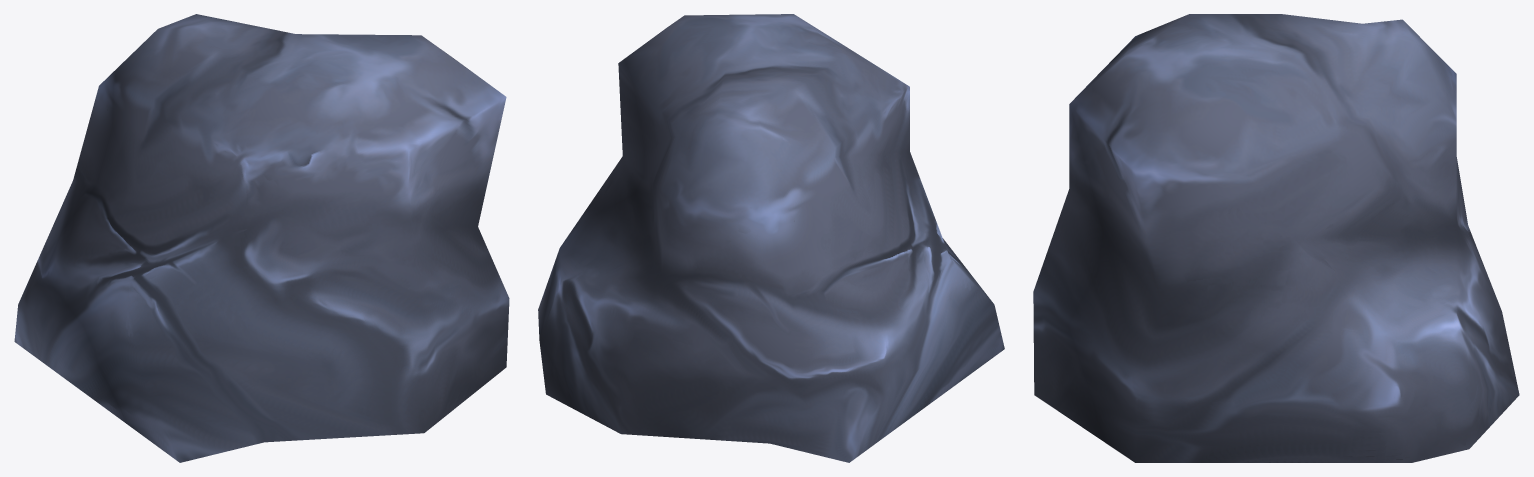
The model's file is Rock.fbx.
3 views of the same model, side by side, from view 1: azimuth 30°, elevation 25°; view 2: azimuth 150°, elevation 25°; view 3: azimuth 270°, elevation 25° (orthographic). The views are drawn at different scales.
Visible parts, largest first — view 1: Rock; view 2: Rock; view 3: Rock.
Part boxes in pixels (x1,y1,x2,y2): Rock: [14, 14, 509, 462]; Rock: [538, 14, 1004, 462]; Rock: [1033, 14, 1519, 462].
Size of the model in its own units: 3.19 by 2.67 by 3.39.
